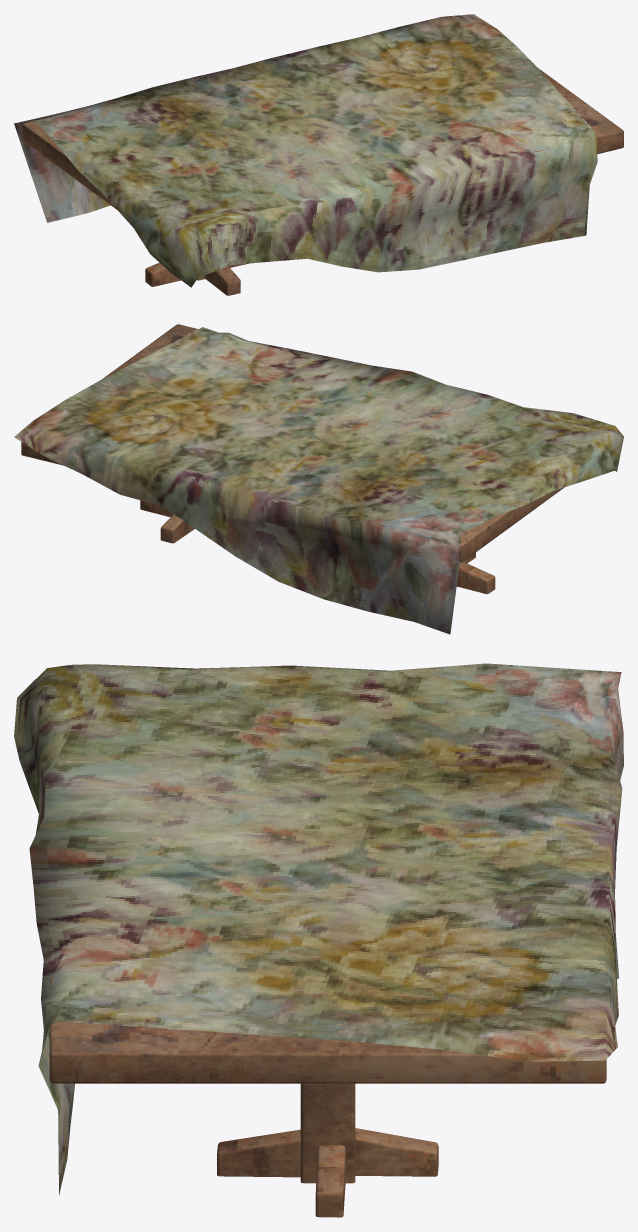
File: _Table_3.FBX
The picture shows the model from 3 angles, top to bottom: view 1: azimuth 30°, elevation 25°; view 2: azimuth 150°, elevation 25°; view 3: azimuth 270°, elevation 25°; orthographic projection. The views are drawn at different scales.
Parts seen in each view (by area): view 1: _Table_3; view 2: _Table_3; view 3: _Table_3.
Part boxes in pixels (x1,y1,x2,y2): _Table_3: (14, 14, 623, 295); _Table_3: (14, 324, 623, 634); _Table_3: (14, 663, 623, 1217).
Size of the model in its own units: 681 by 168 by 438.
2 materials, 2 textured.
